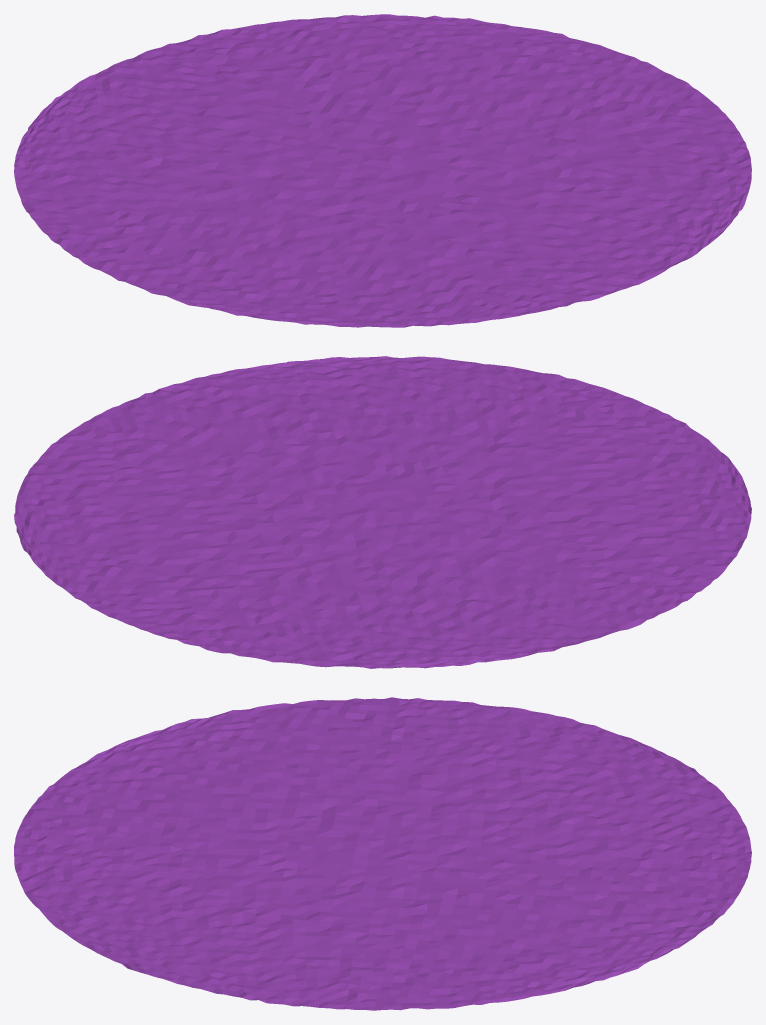
Rendered from world_3_terrain.dae.
3 views of the same model, one above another, from view 1: azimuth 30°, elevation 25°; view 2: azimuth 150°, elevation 25°; view 3: azimuth 270°, elevation 25° (orthographic).
Visible parts, largest first — view 1: Circle_001; view 2: Circle_001; view 3: Circle_001.
Boxes of the visible parts, x1,y1,x2,y2 form: Circle_001: (14, 14, 751, 327); Circle_001: (14, 356, 751, 668); Circle_001: (14, 697, 751, 1010).
Bounding box in the file's own units: 128 × 128 × 0.5962.
